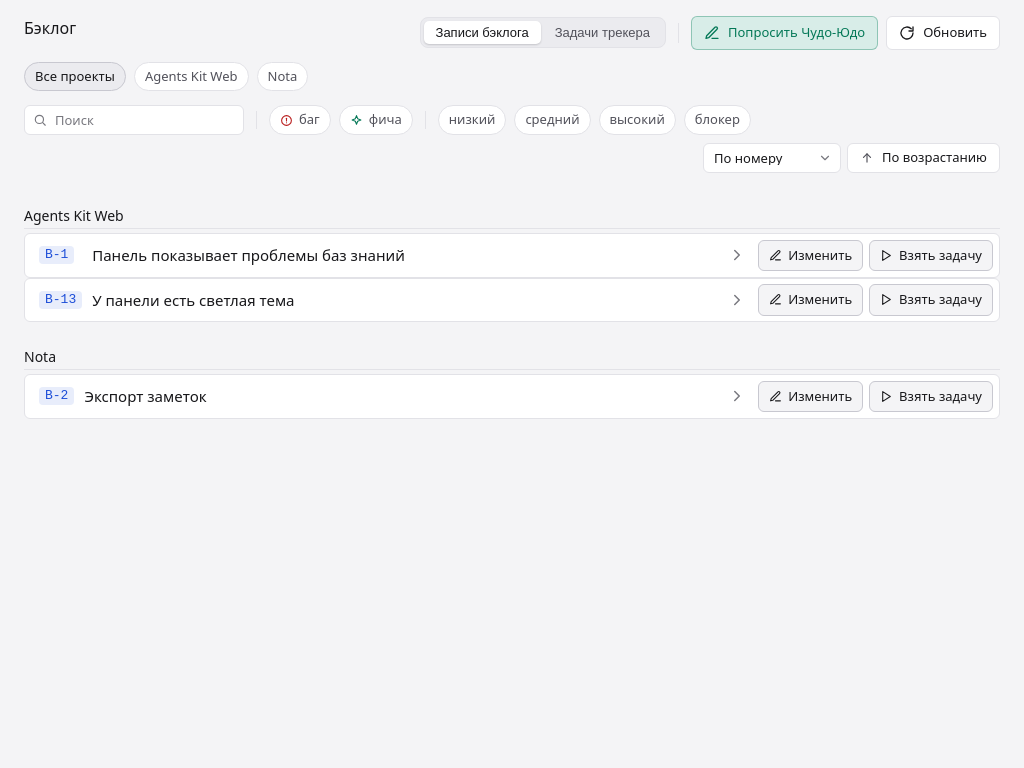
Test: окно закрывается кнопкой, Esc и кликом мимо окна и возвращает фокус записи
Step 1. Click the button "B-13 У панели есть светлая тема" → (61, 300), box left=33, top=282, right=752, bottom=317
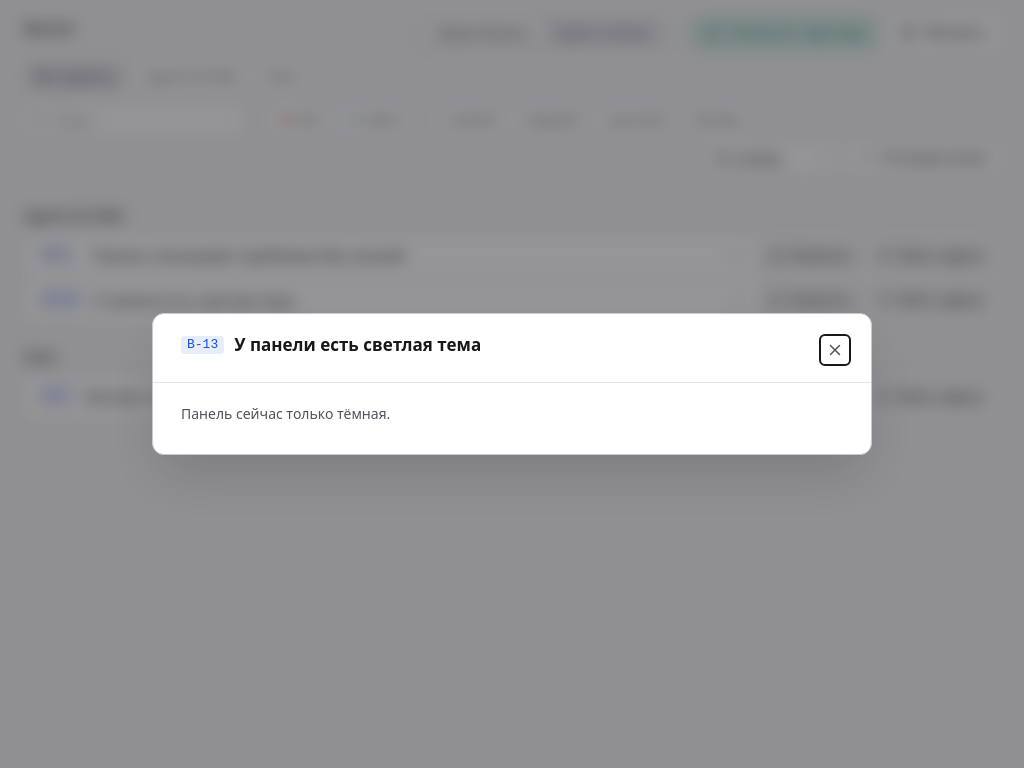
Step 2. Click the button named "Закрыть" → (835, 350), box left=819, top=334, right=851, bottom=366
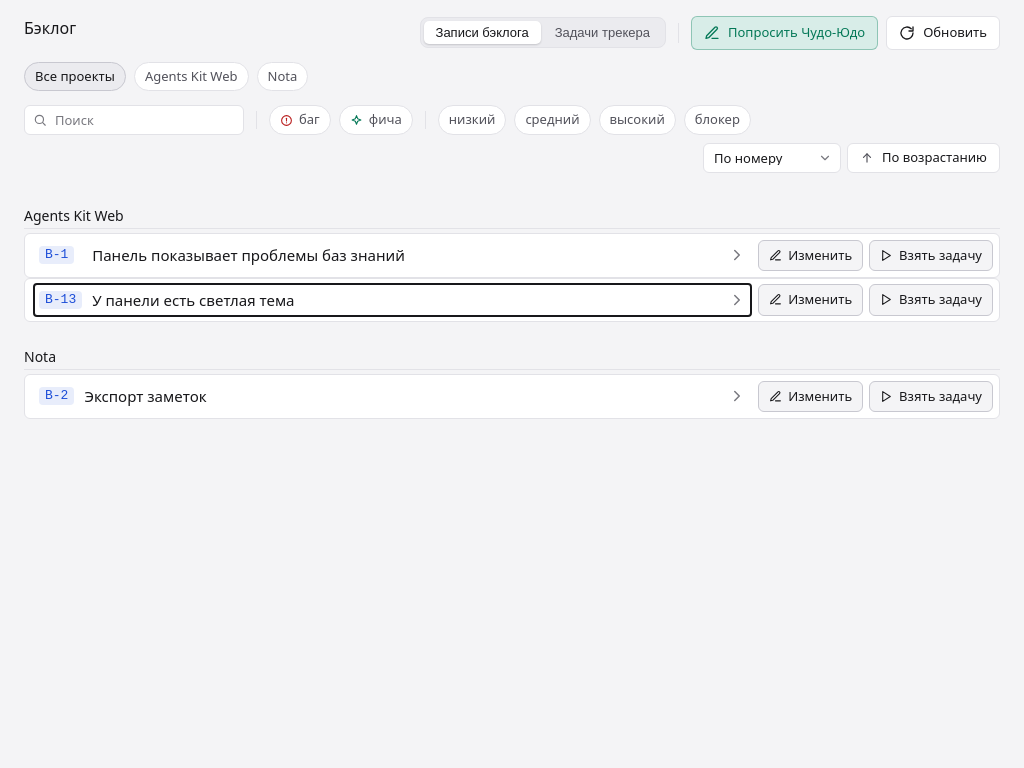
Result: the dialog is gone
Step 3. Click the button "B-13 У панели есть светлая тема" → (61, 300), box left=33, top=282, right=752, bottom=317
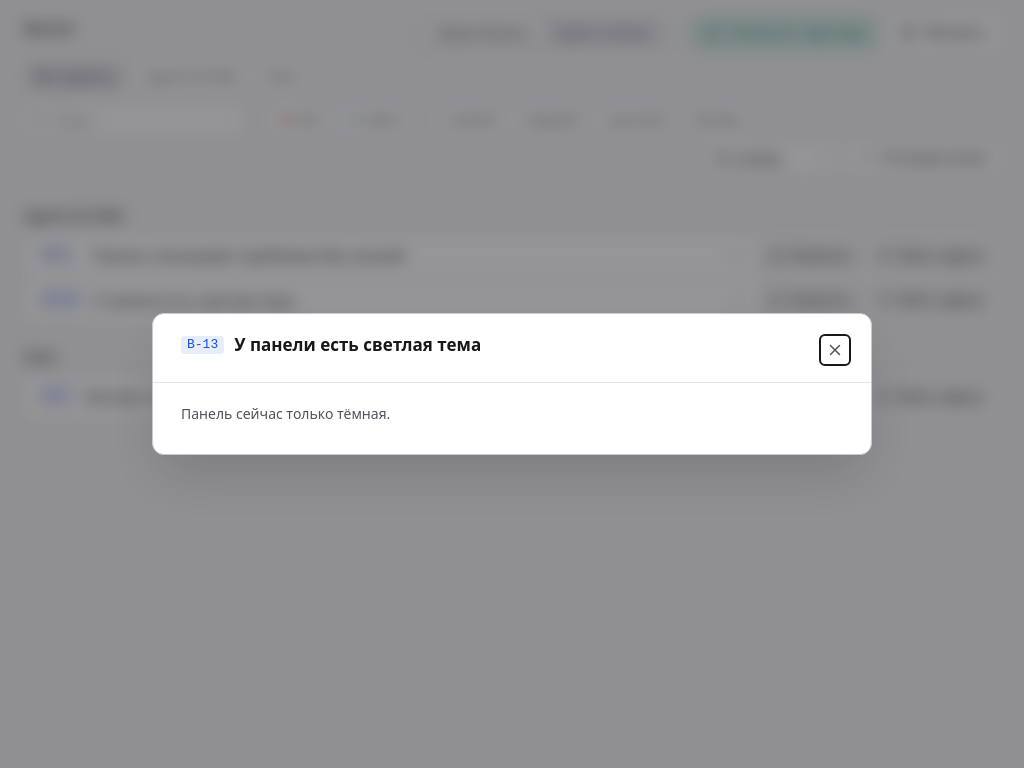
Step 4. Press Escape
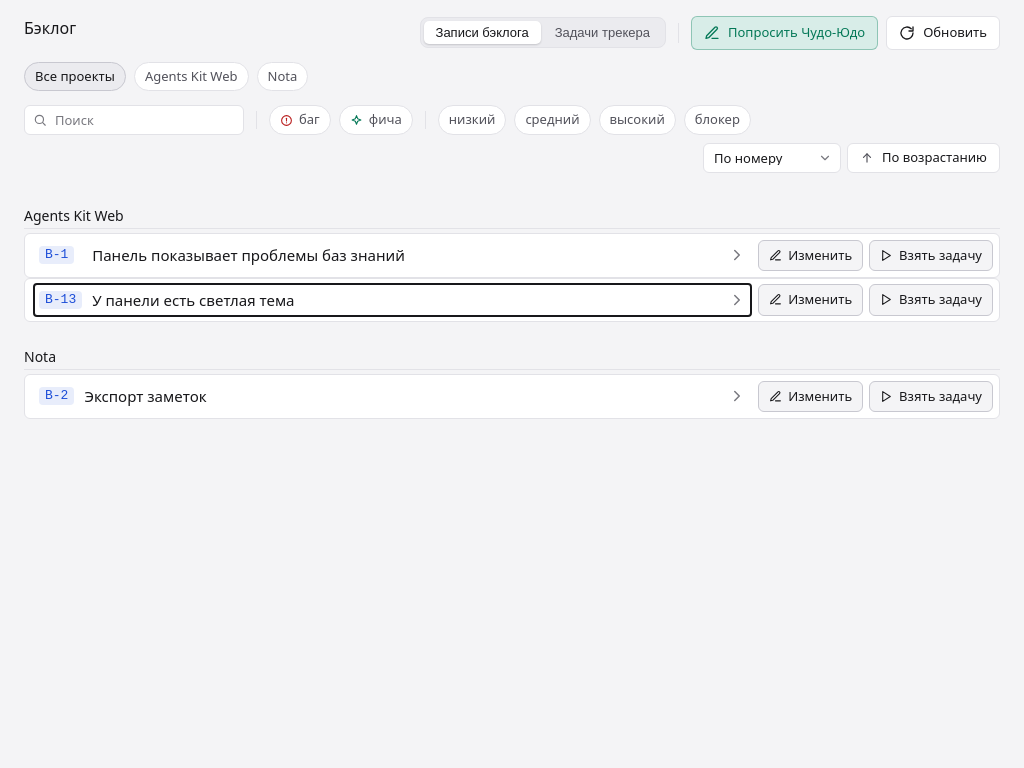
Result: the dialog is gone
Step 5. Click the button "B-13 У панели есть светлая тема" → (61, 300), box left=33, top=282, right=752, bottom=317
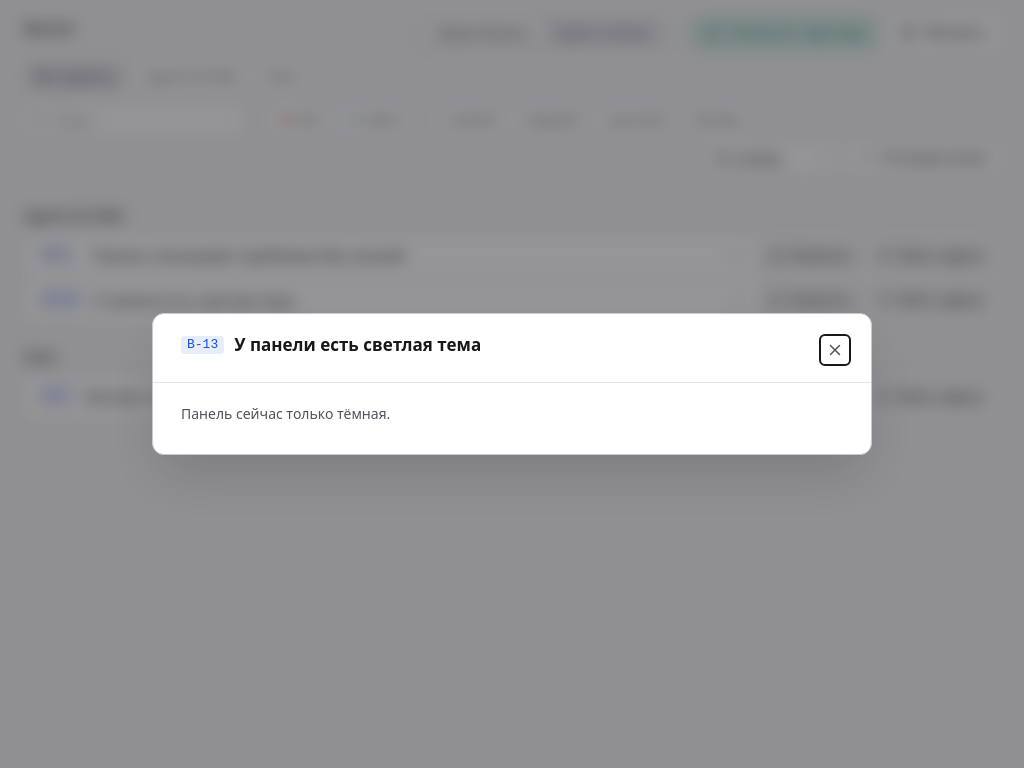
Клик внутри окна его не закрывает
Step 6. Press the mouse on the text "Панель сейчас только тёмная." → (286, 414), box left=181, top=404, right=390, bottom=423
Result: the dialog is shown at left=152, top=313, right=872, bottom=455
Step 7. Press the mouse on the element showing "B-13 У панели есть светлая тема Панель сейчас только тёмная." → (512, 384), box left=0, top=0, right=1023, bottom=767
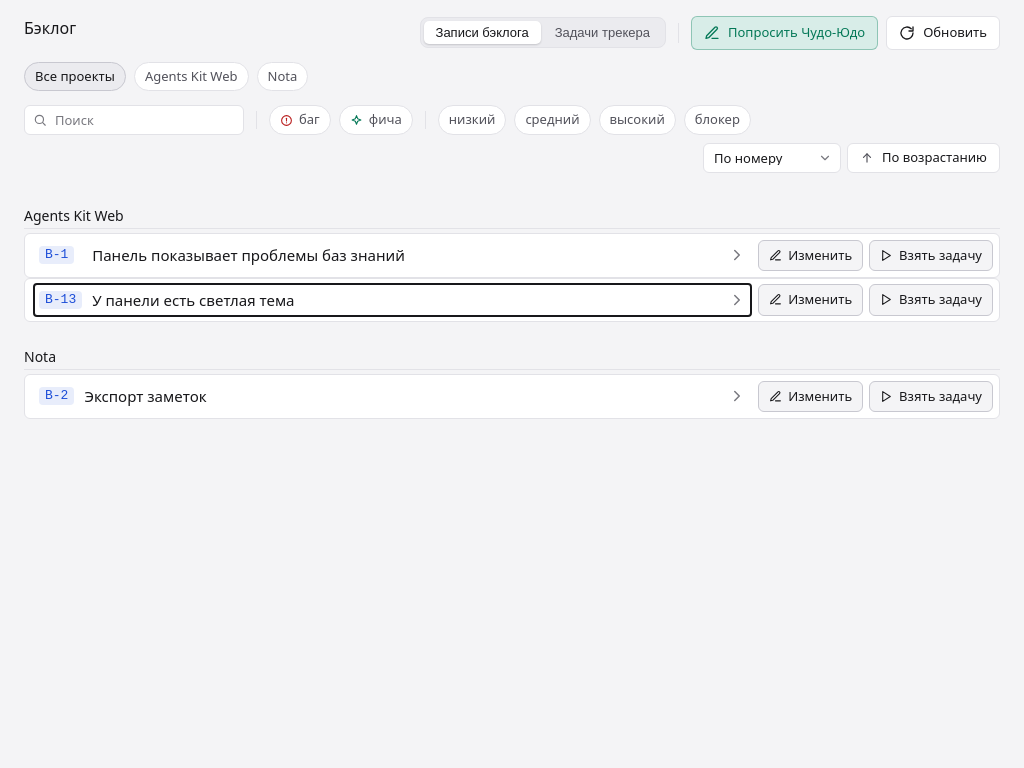
Result: the dialog is gone
